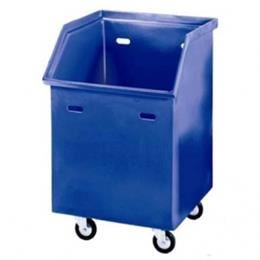Carts: (41, 9, 219, 253)
